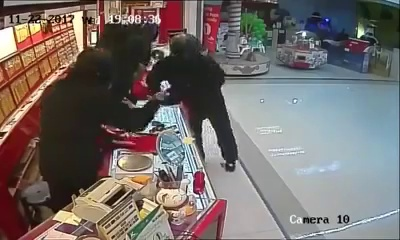helmet: (164, 33, 200, 64)
